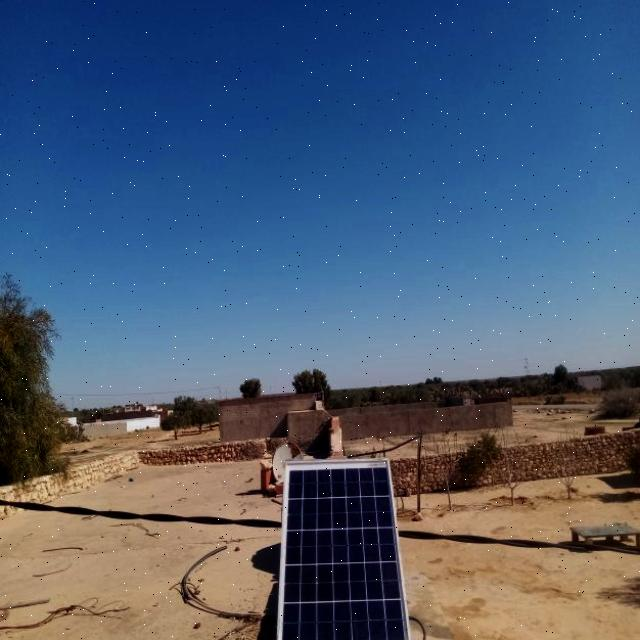Normal Solar Panel: (276, 459, 411, 640)
